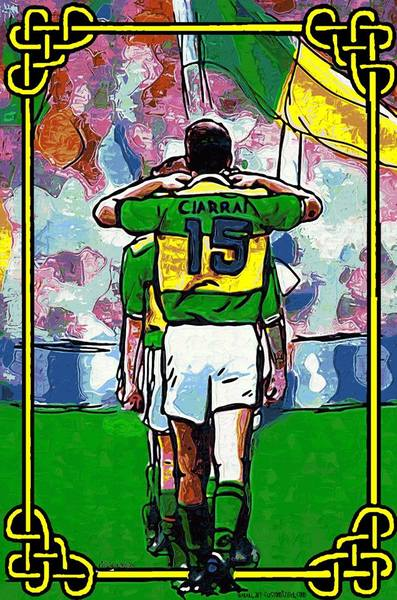player: (111, 132, 275, 569)
